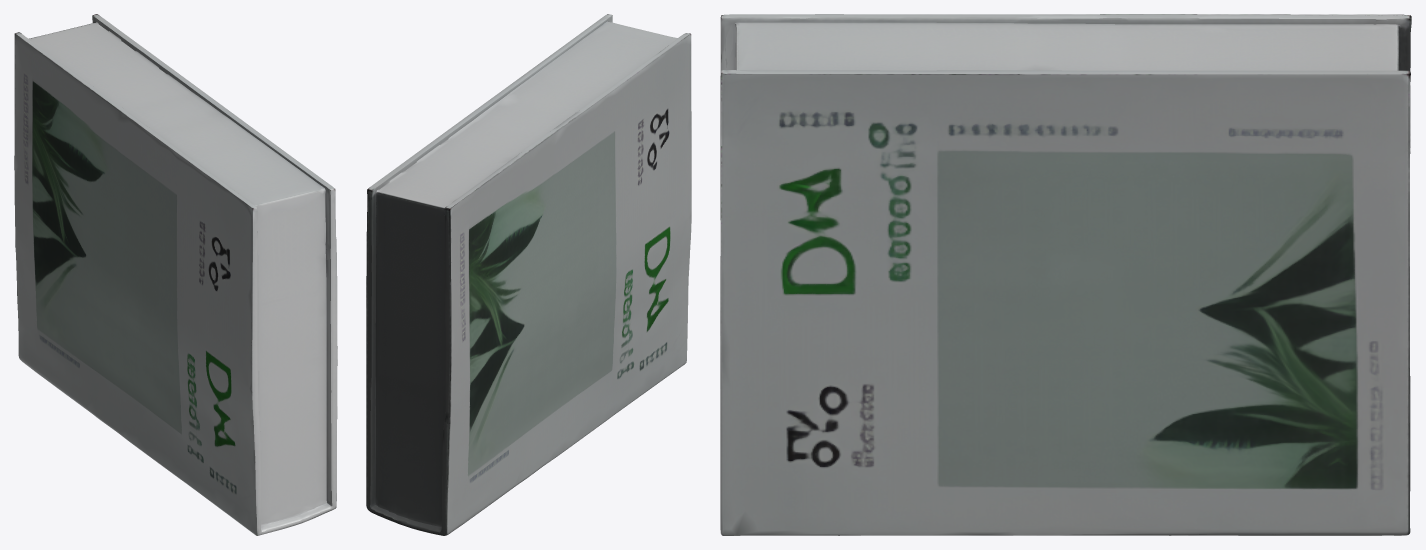
File: book2.obj
3 renders of one model, left to right at view 1: azimuth 30°, elevation 25°; view 2: azimuth 150°, elevation 25°; view 3: azimuth 270°, elevation 25°, orthographic. The views are drawn at different scales.
Visible parts, largest first — view 1: geometry_0; view 2: geometry_0; view 3: geometry_0.
Part boxes in pixels (x1,y1,x2,y2): geometry_0: [14, 14, 337, 535]; geometry_0: [366, 14, 691, 535]; geometry_0: [720, 14, 1411, 535].
Bounding box in the file's own units: 0.0501 × 0.1842 × 0.2426.
Materials: 1 (1 with a texture image).
